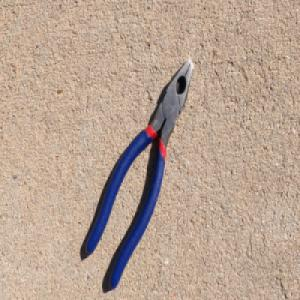Pliers: (83, 56, 194, 290)
